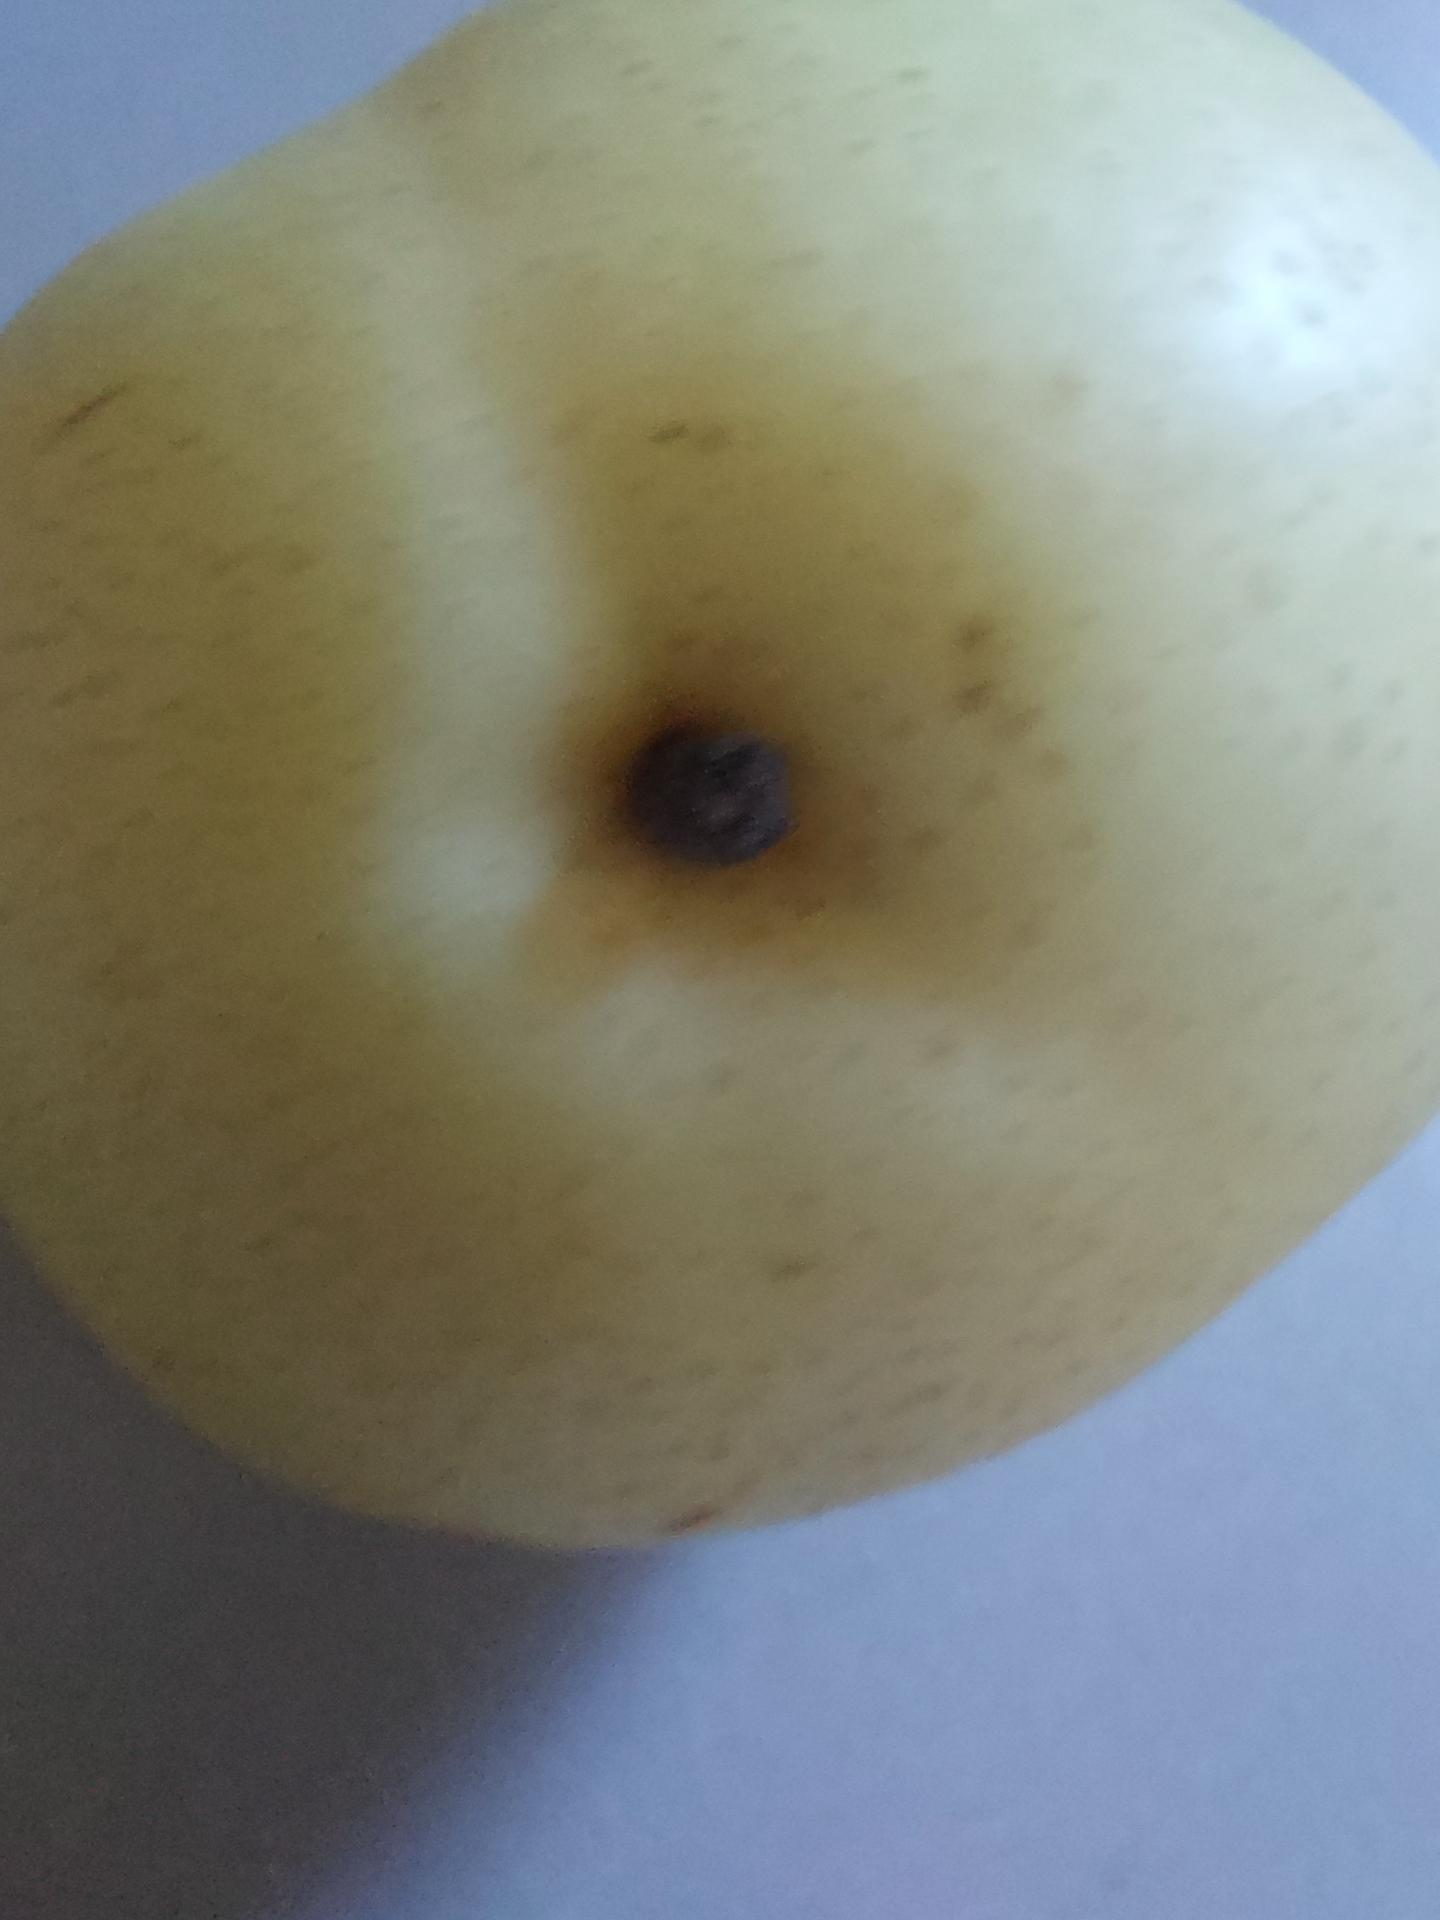Good Pear: (0, 0, 1440, 1568)
